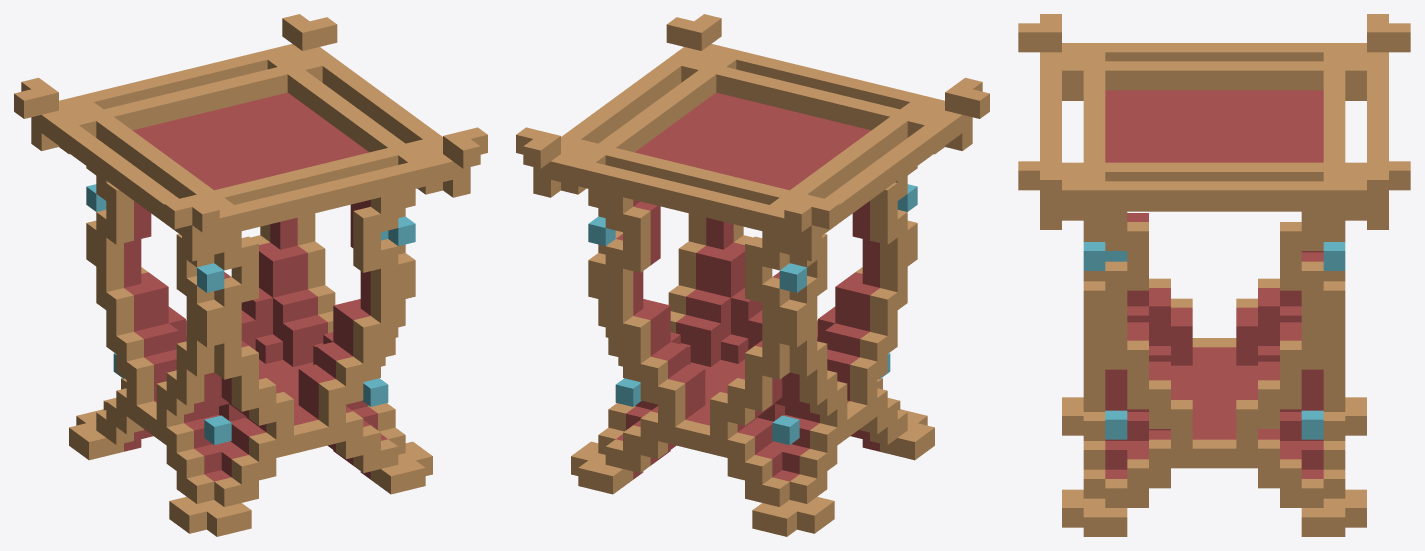
Rendered from Book Pedestal.obj.
3 renders of one model, left to right at view 1: azimuth 30°, elevation 25°; view 2: azimuth 150°, elevation 25°; view 3: azimuth 270°, elevation 25°, orthographic. The views are drawn at different scales.
Bounding box in the file's own units: 1.8 × 1.9 × 1.8.
1 material, 1 textured.
